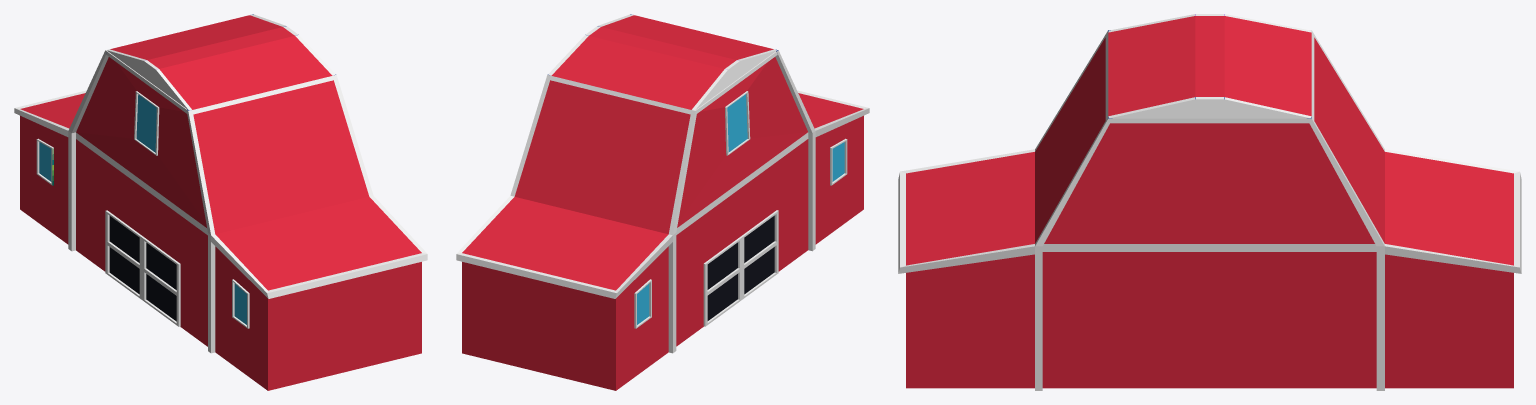
File: GRANJA.fbx
3 renders of one model, left to right at view 1: azimuth 30°, elevation 25°; view 2: azimuth 150°, elevation 25°; view 3: azimuth 270°, elevation 25°, orthographic. The views are drawn at different scales.
Visible parts, largest first — view 1: Cube; view 2: Cube; view 3: Cube.
Boxes of the visible parts, box(x1,y1,x2,y2) form: Cube: box(14, 14, 427, 390); Cube: box(456, 14, 869, 390); Cube: box(898, 14, 1521, 390).
Bounding box in the file's own units: 364 × 499 × 986.
Materials: 1 (1 with a texture image).
